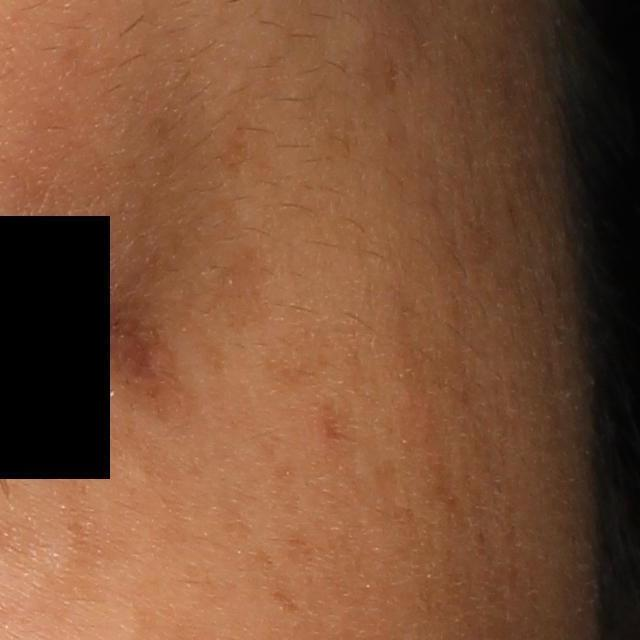melasma: (50, 416, 200, 564), (250, 320, 368, 397), (205, 248, 271, 334), (243, 545, 313, 625), (315, 399, 366, 504), (276, 518, 329, 591), (211, 113, 255, 183), (270, 457, 305, 524)
